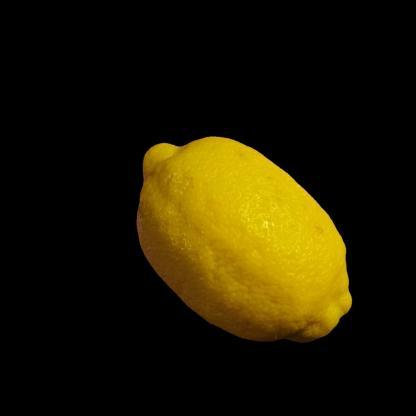lemon: (136, 135, 353, 343)
